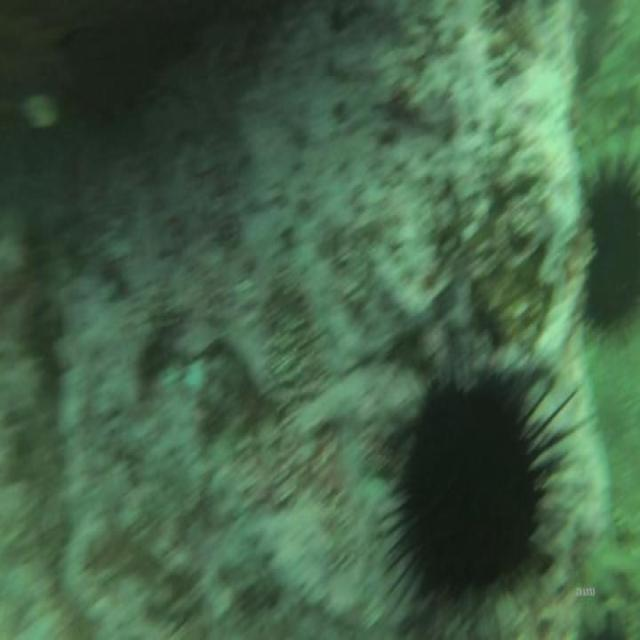echinus: (386, 357, 562, 624), (578, 142, 640, 346)
